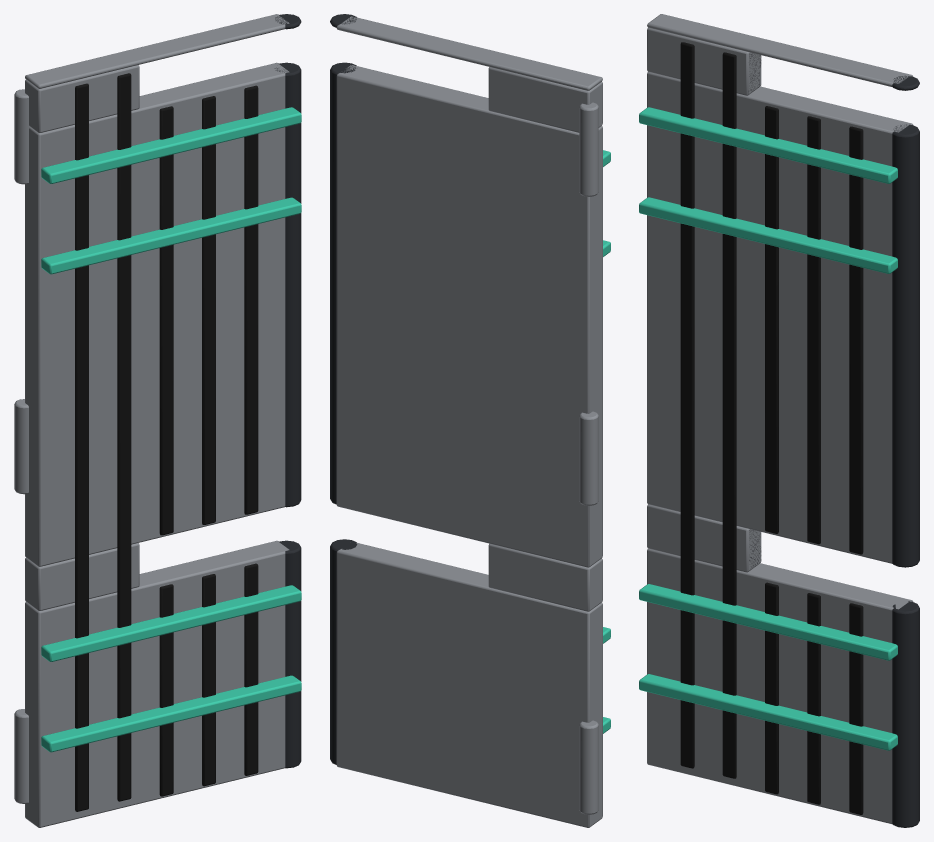
The model's file is ramp.obj.
3 views of the same model, side by side, from view 1: azimuth 30°, elevation 25°; view 2: azimuth 150°, elevation 25°; view 3: azimuth 330°, elevation 25° (orthographic).
Visible parts, largest first — view 1: ramp; view 2: ramp; view 3: ramp.
Boxes of the visible parts, box(x1,y1,x2,y2) form: ramp: box(14, 14, 301, 827); ramp: box(330, 14, 610, 827); ramp: box(639, 14, 919, 827).
Size of the model in its own units: 0.325 by 0.84 by 0.06.
